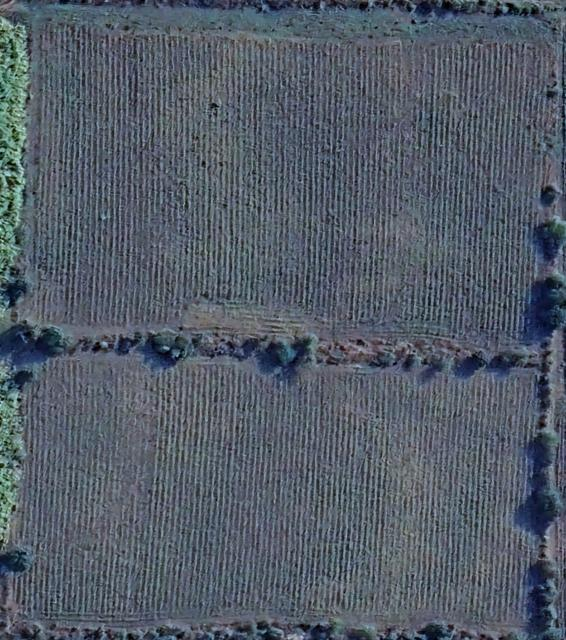Farms: (17, 6, 557, 356), (9, 337, 554, 637)
